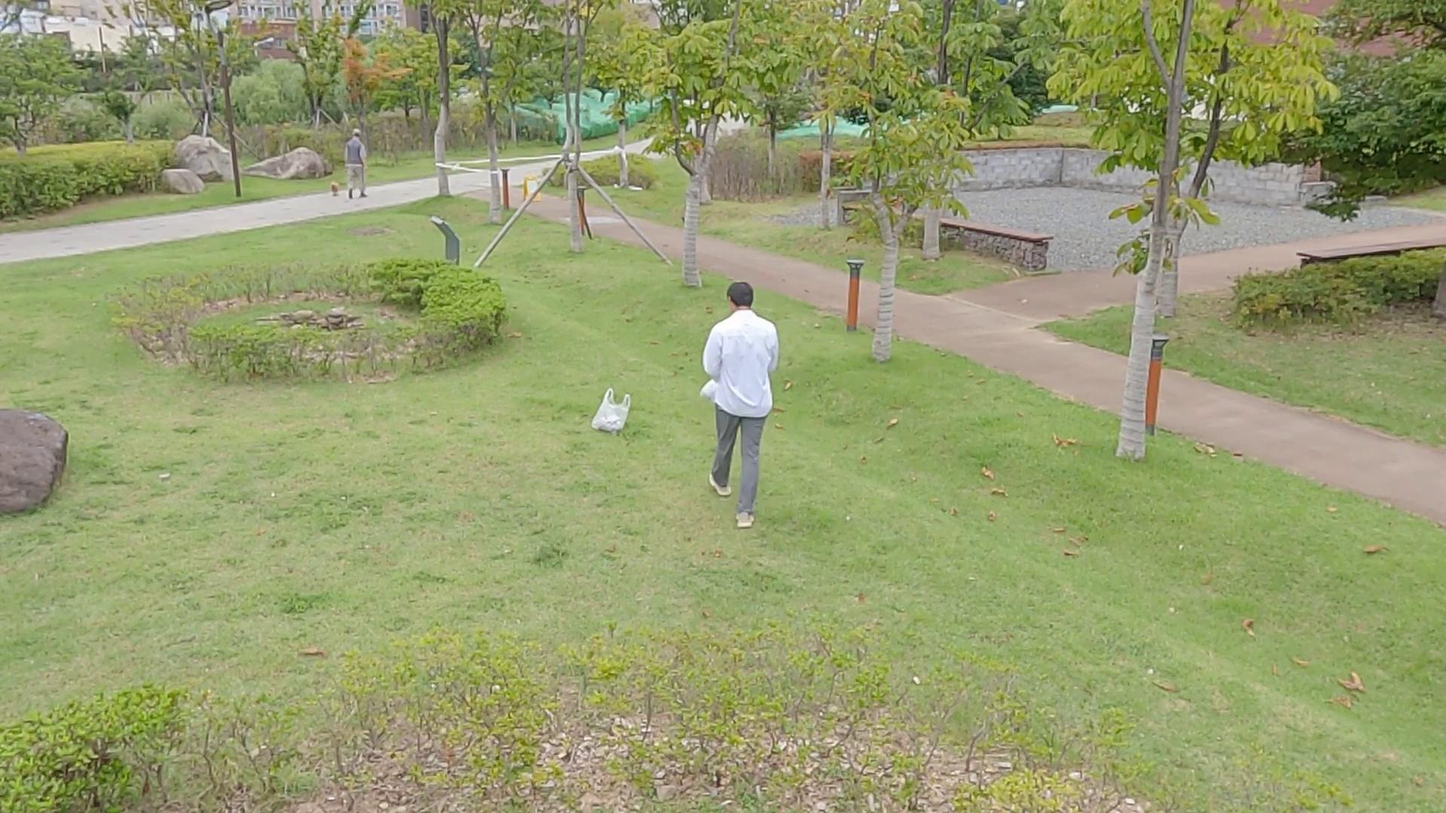person: (701, 280, 782, 531), (346, 129, 369, 198)
trash: (591, 388, 631, 433), (698, 377, 722, 406)
